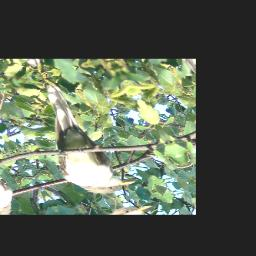Cuckoo: (6, 80, 140, 202)
